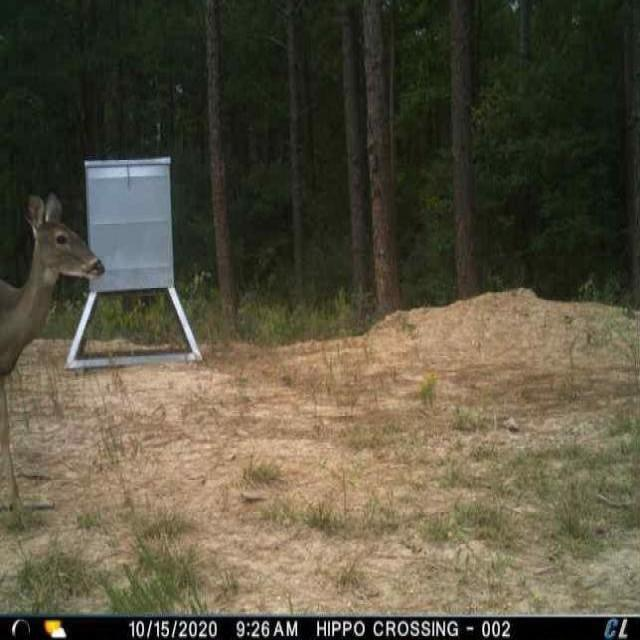deer: (0, 185, 105, 528)
